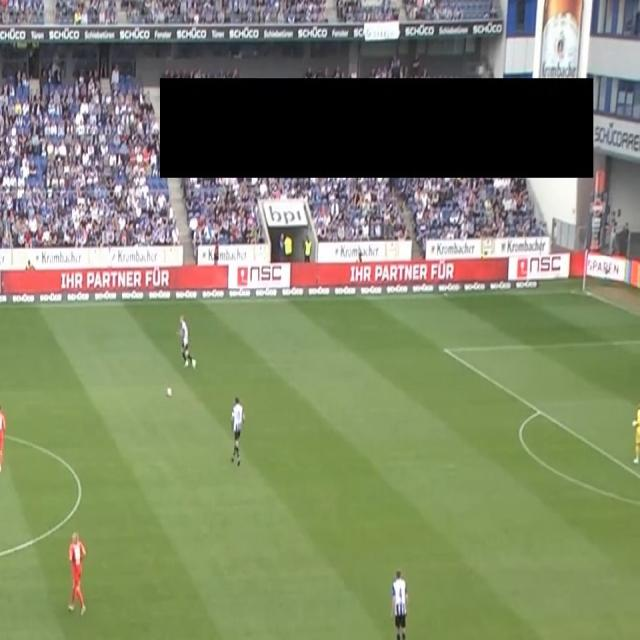ball: (165, 386, 173, 398)
